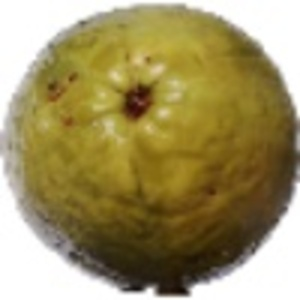goiaba: (3, 3, 293, 285)
